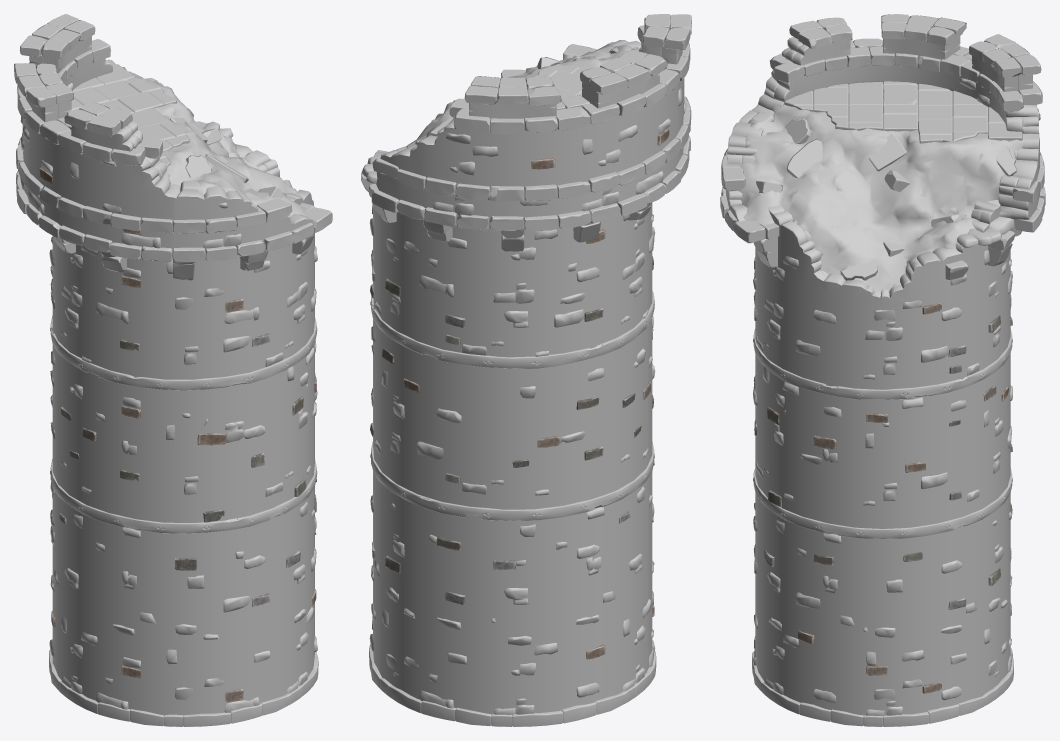
3 views of the same model, side by side, from view 1: azimuth 30°, elevation 25°; view 2: azimuth 150°, elevation 25°; view 3: azimuth 270°, elevation 25° (orthographic). The views are drawn at different scales.
Parts seen in each view (by area): view 1: SM_Fortress_Tower_4x12_01_v3_Dmg_LOD0; view 2: SM_Fortress_Tower_4x12_01_v3_Dmg_LOD0; view 3: SM_Fortress_Tower_4x12_01_v3_Dmg_LOD0.
Boxes of the visible parts, x1,y1,x2,y2 form: SM_Fortress_Tower_4x12_01_v3_Dmg_LOD0: (14, 14, 332, 726); SM_Fortress_Tower_4x12_01_v3_Dmg_LOD0: (361, 14, 691, 726); SM_Fortress_Tower_4x12_01_v3_Dmg_LOD0: (720, 14, 1045, 726).
Size of the model in its own units: 8.44 by 18.66 by 9.33.
